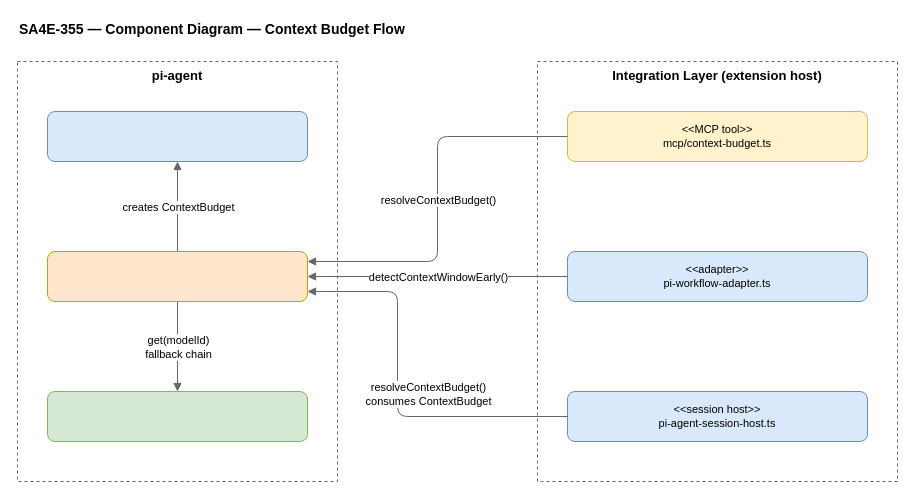
Some shapes in this 915 by 499 pixel diagram are drawn without their labels. The shapes that lost their labels are listed below. From the top down, each one's centre as x and y in pixels, then its label:
At (x=177, y=136): "<<DTO>> models/ContextBudget.ts".
At (x=177, y=276): "<<service>> context-budget-resolver.ts".
At (x=177, y=416): "<<registry>> model-registry.ts".
